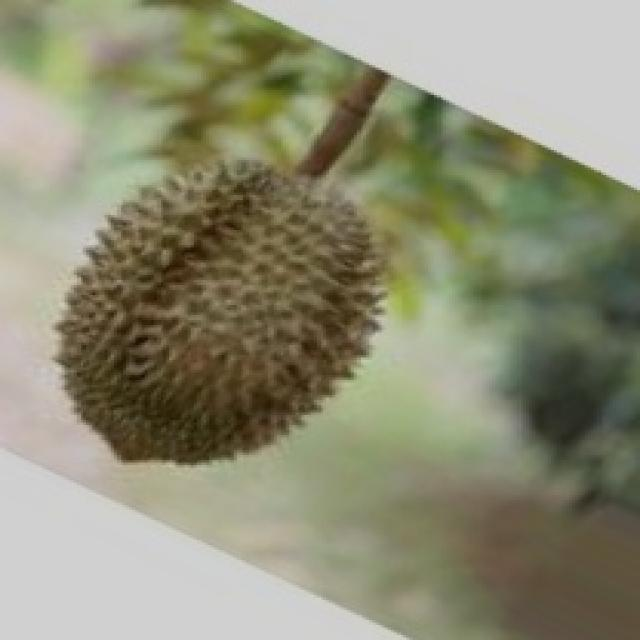fruit: (6, 102, 431, 508)
